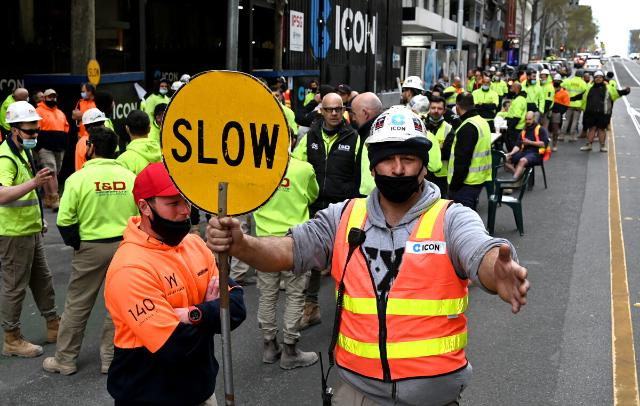helmet: (367, 104, 428, 141), (2, 102, 44, 122), (80, 109, 108, 122), (402, 76, 424, 90), (540, 67, 552, 75), (552, 76, 562, 80), (596, 72, 604, 76)
vest: (337, 201, 469, 369), (1, 150, 44, 236), (445, 120, 493, 182), (520, 127, 548, 156)
